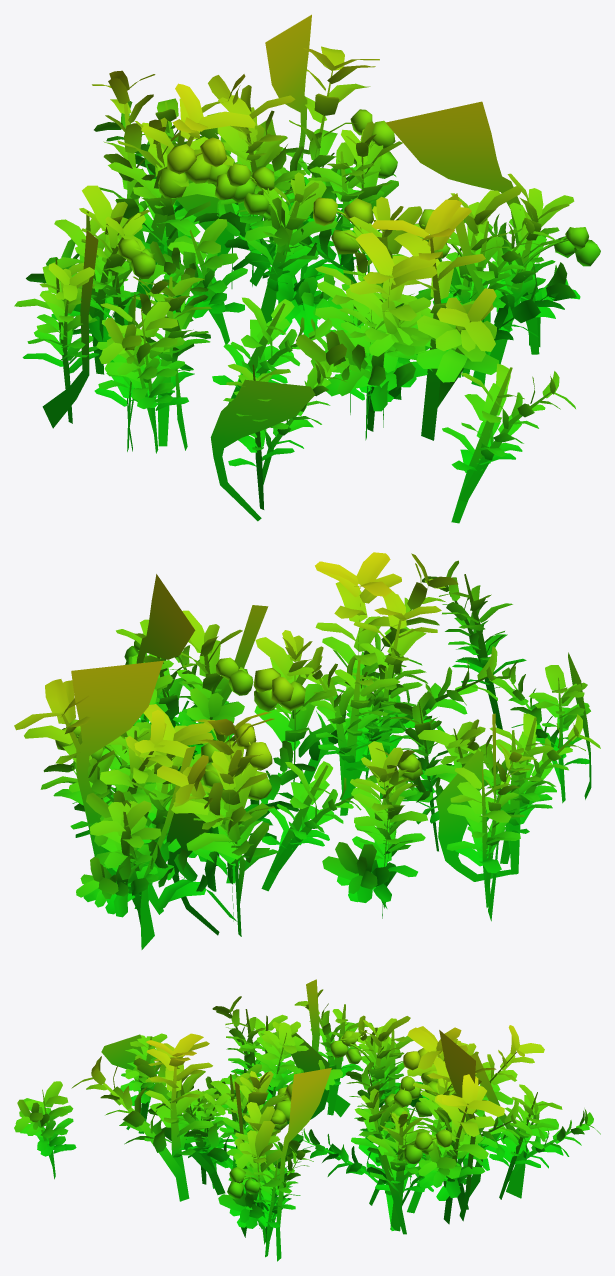
File: Lingonberry_LOD2_Var4.fbx
3 views of the same model, one above another, from view 1: azimuth 30°, elevation 25°; view 2: azimuth 150°, elevation 25°; view 3: azimuth 270°, elevation 25° (orthographic). The views are drawn at different scales.
Visible parts, largest first — view 1: _lczu_Var4_LOD2; view 2: _lczu_Var4_LOD2; view 3: _lczu_Var4_LOD2.
Boxes of the visible parts, x1=… form: _lczu_Var4_LOD2: x1=14, y1=14, x2=600, y2=523; _lczu_Var4_LOD2: x1=14, y1=552, x2=600, y2=949; _lczu_Var4_LOD2: x1=14, y1=979, x2=600, y2=1261.
Size of the model in its own units: 35.32 by 17.71 by 51.22.
